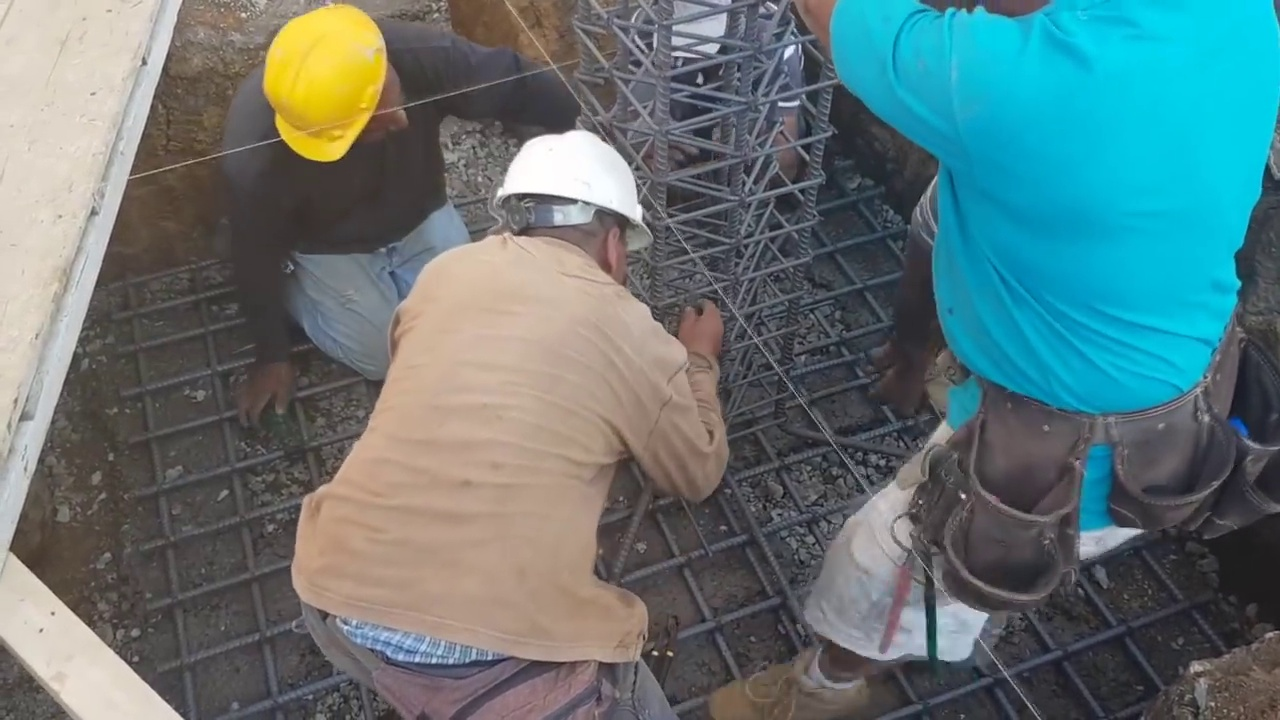helmet: (264, 11, 385, 162), (489, 126, 645, 241)
helmet-on: (480, 122, 660, 293), (231, 7, 395, 170)
person: (717, 0, 1277, 719), (287, 122, 728, 720), (212, 0, 520, 432)
